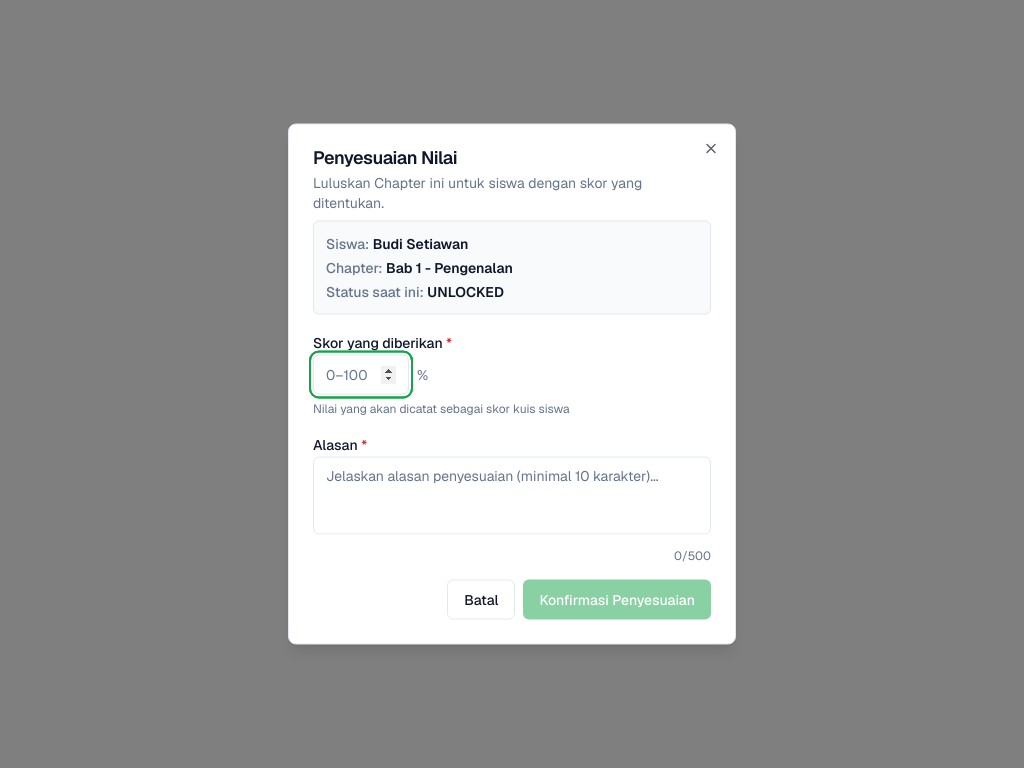
Scenario: OverrideForm › shows API error message and preserves form data on failure
Type "75" into the number field with placeholder "0–100".
click(361, 374); type("75")  # box [313, 354, 409, 394]
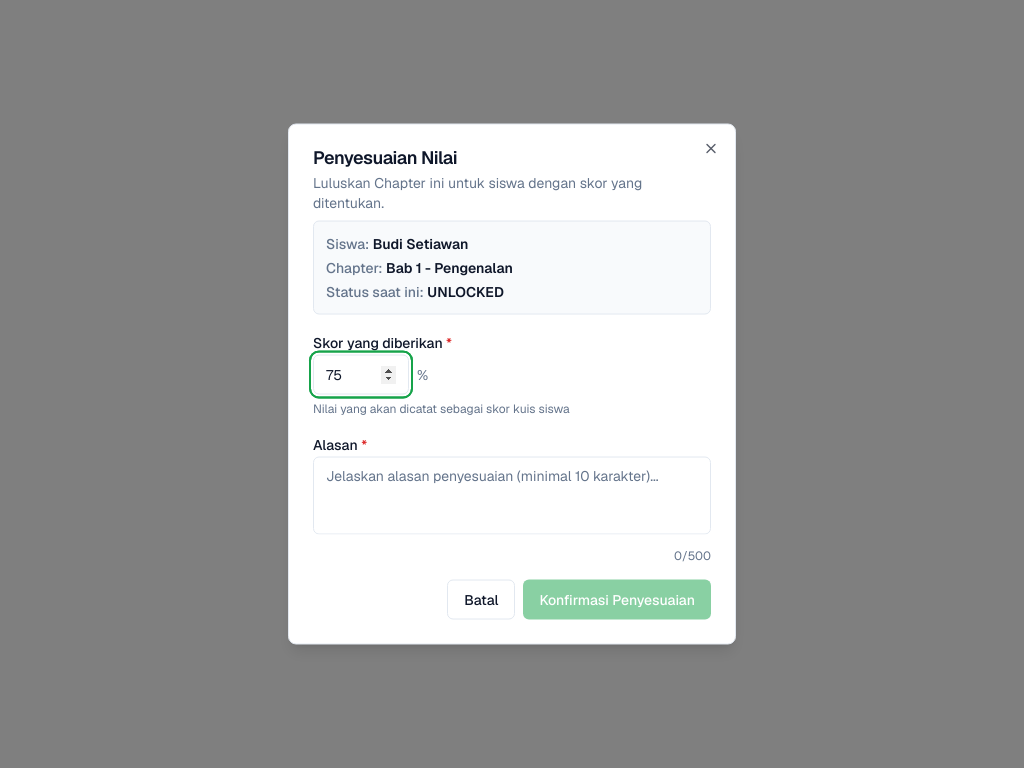
Type "Alasan valid untuk penyesuaian" into the text box labelled "Alasan *".
click(512, 496); type("Alasan valid untuk penyesuaian")  # box [313, 456, 711, 534]
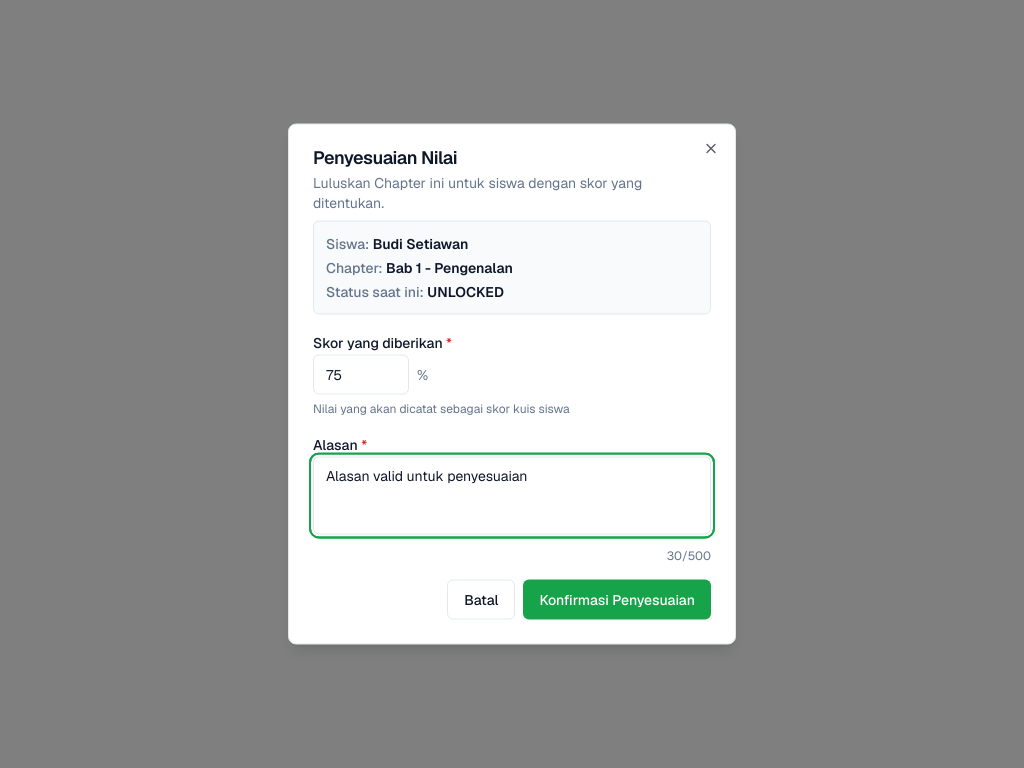
Click the button "Konfirmasi Penyesuaian".
click(617, 600)  # box [523, 580, 711, 620]
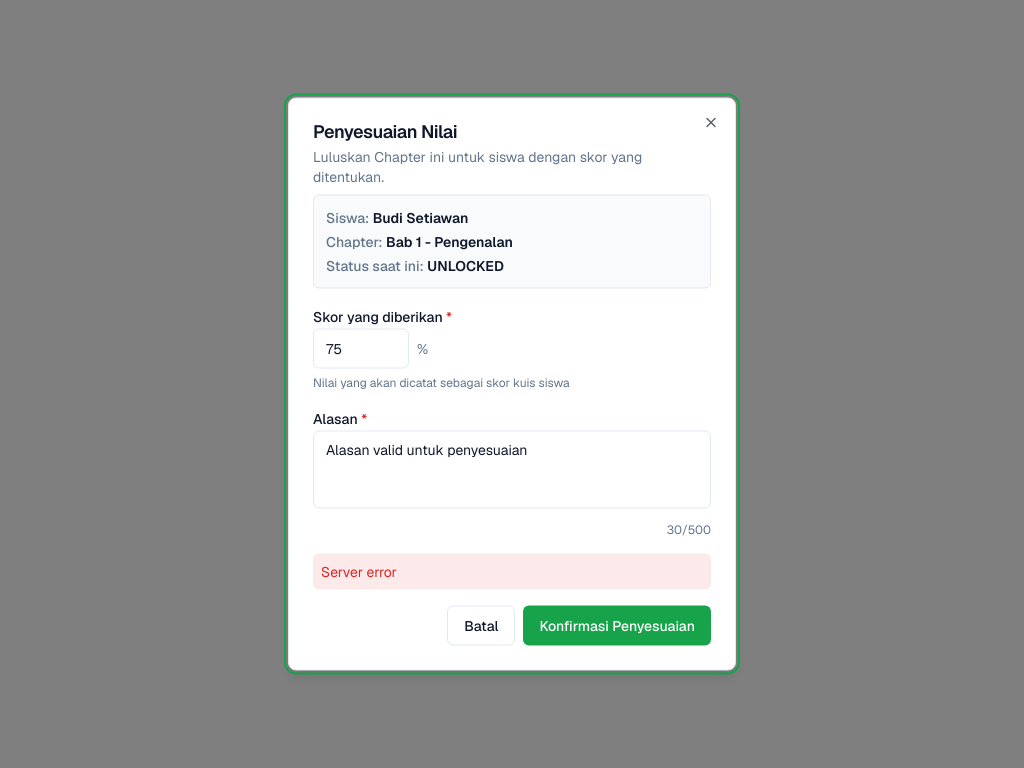
Now the text "Server error" is shown, box [313, 554, 711, 590]
